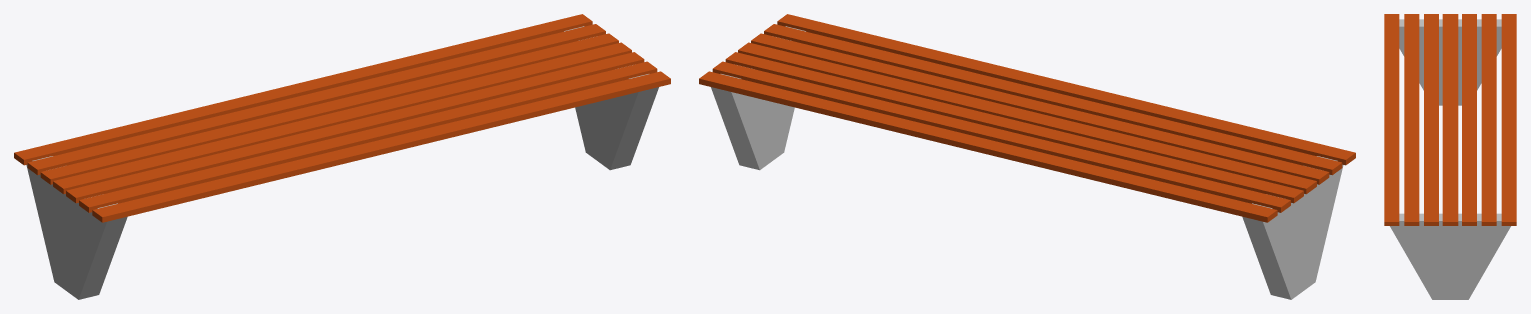
Rendered from Bench.obj.
3 views of the same model, side by side, from view 1: azimuth 30°, elevation 25°; view 2: azimuth 150°, elevation 25°; view 3: azimuth 270°, elevation 25° (orthographic). The views are drawn at different scales.
Visible parts, largest first — view 1: Cube_Cube.001; view 2: Cube_Cube.001; view 3: Cube_Cube.001.
Part boxes in pixels (box(x1,y1,x2,y2)): Cube_Cube.001: box(14, 14, 670, 299); Cube_Cube.001: box(699, 14, 1355, 299); Cube_Cube.001: box(1384, 14, 1516, 299).
Size of the model in its own units: 3.04 by 0.552 by 0.8171.
